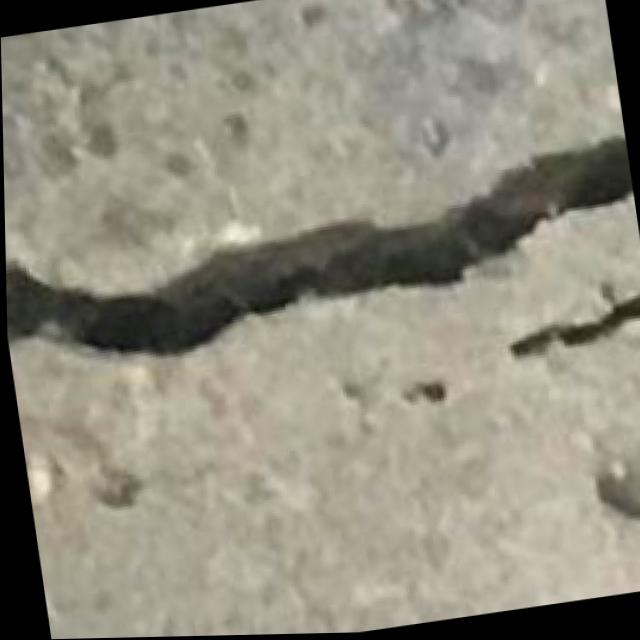Crack: (2, 106, 640, 640), (8, 117, 640, 402)
